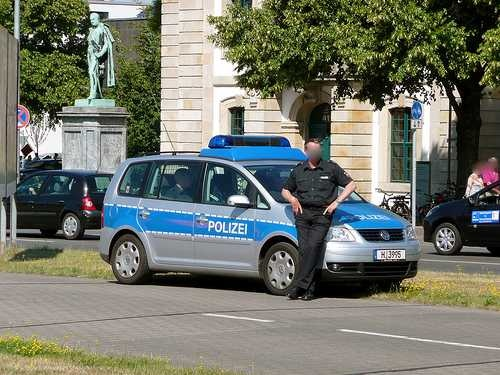Police Car: (78, 124, 432, 299)
